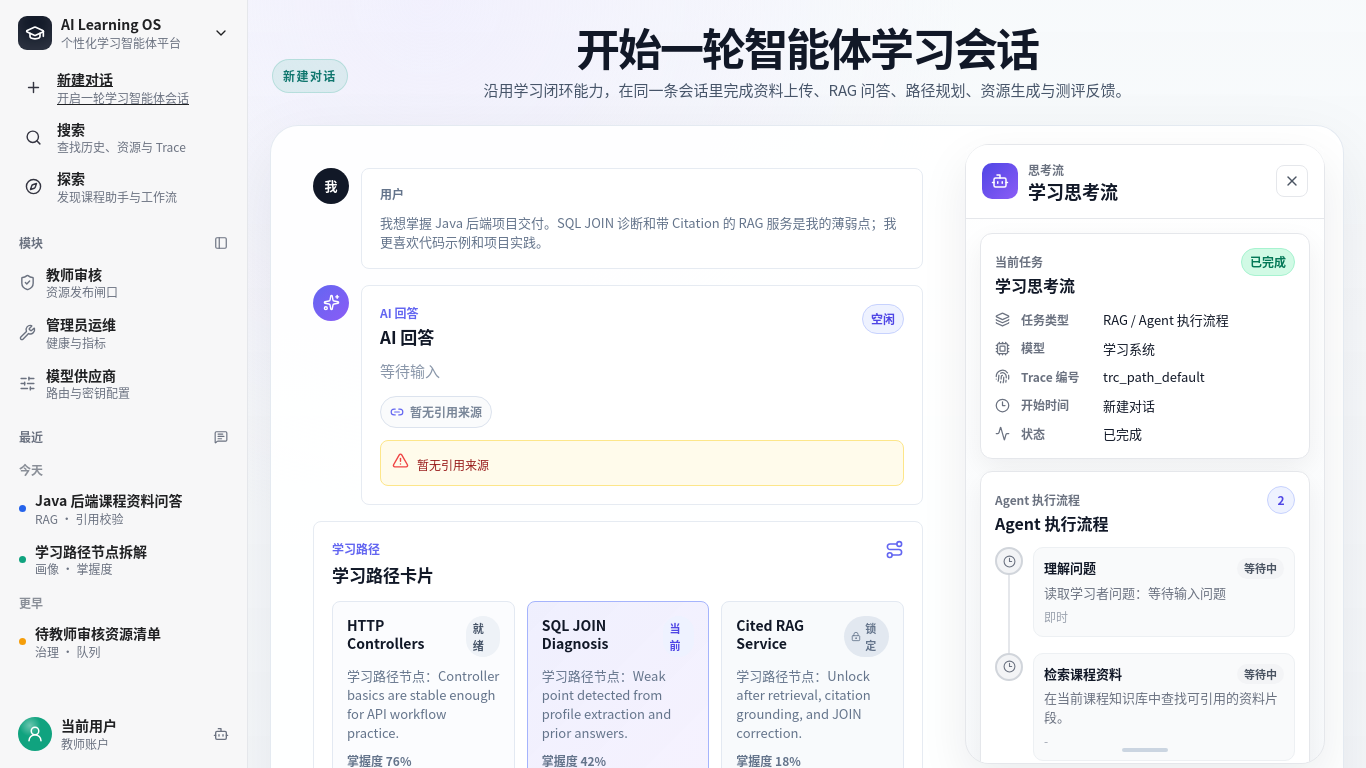
Test: AI Learning OS workbench › uses role-aware shell context and triage-oriented role pages
Click the link with test id "teacher-view". click: (68, 282)
box: [19, 264, 118, 300]
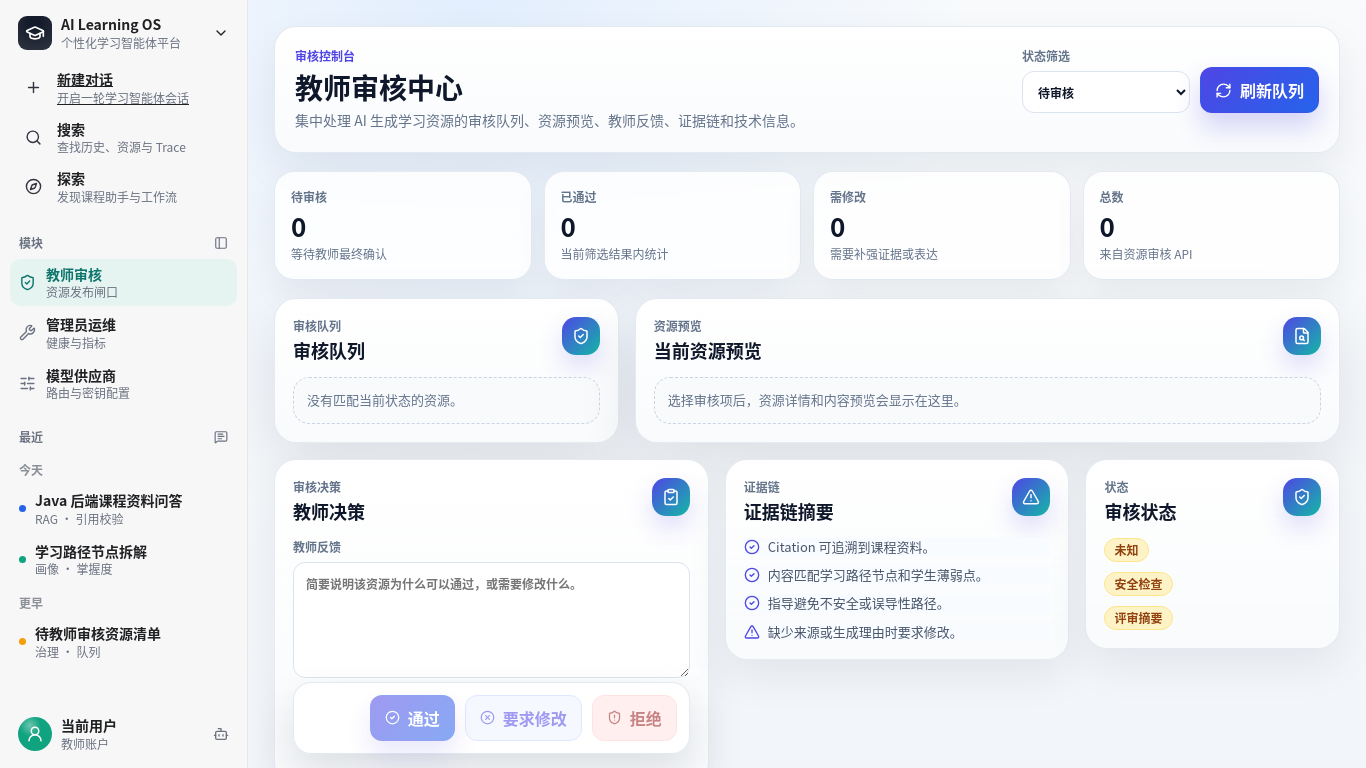
expect the list with test id "teacher-evidence-checklist" is shown: met, box [744, 538, 1050, 641]
expect the button with test id "reject-review" is disabled: met, box [592, 695, 677, 741]
Click the link with test id "admin-view". click: (68, 332)
box: [19, 314, 116, 350]
(page scrolled)
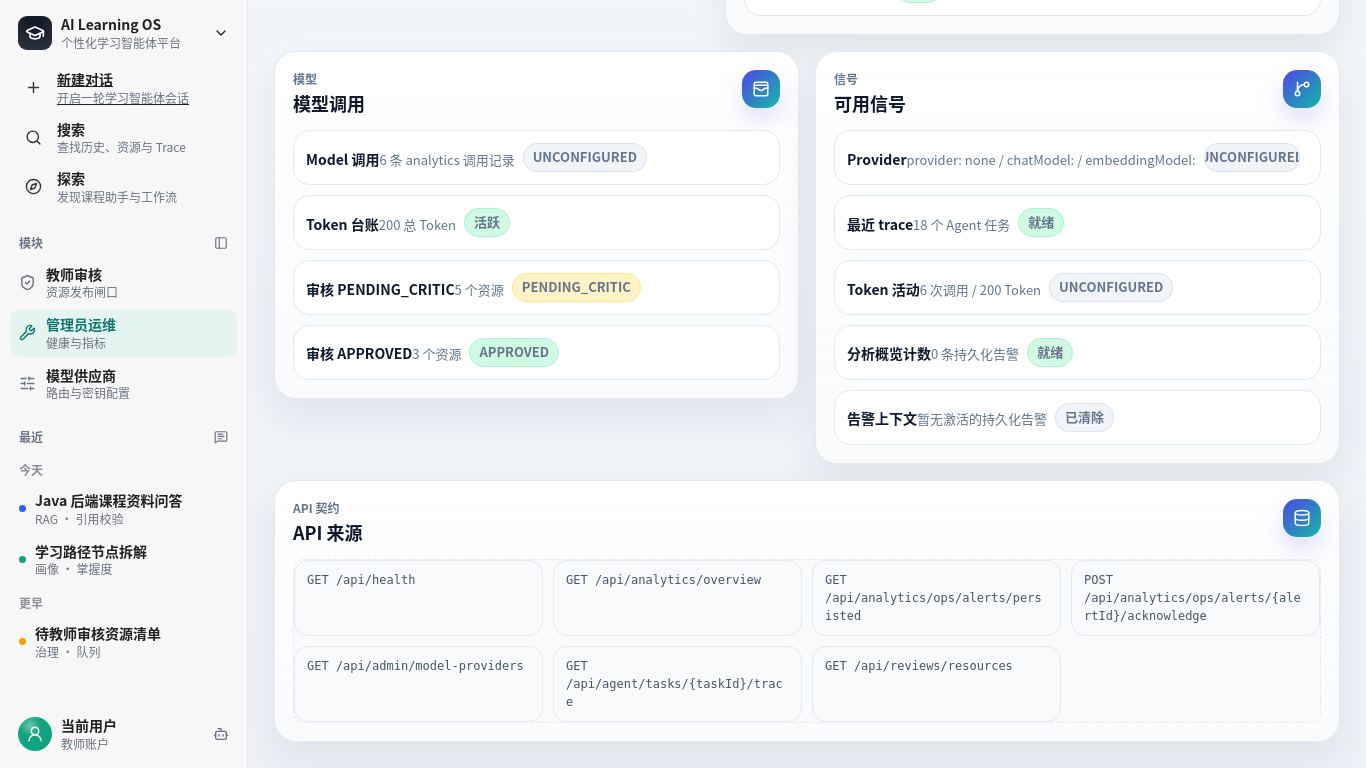
expect the element with test id "admin-api-sources" is shown: met, box [274, 480, 1340, 742]
